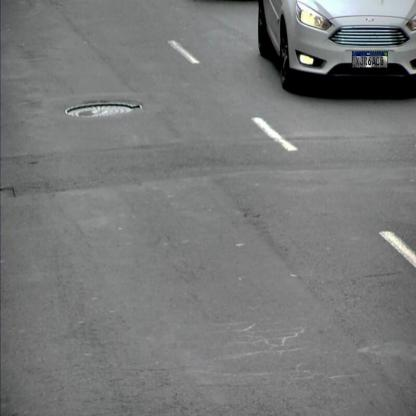PlacaM: (352, 51, 388, 68)
